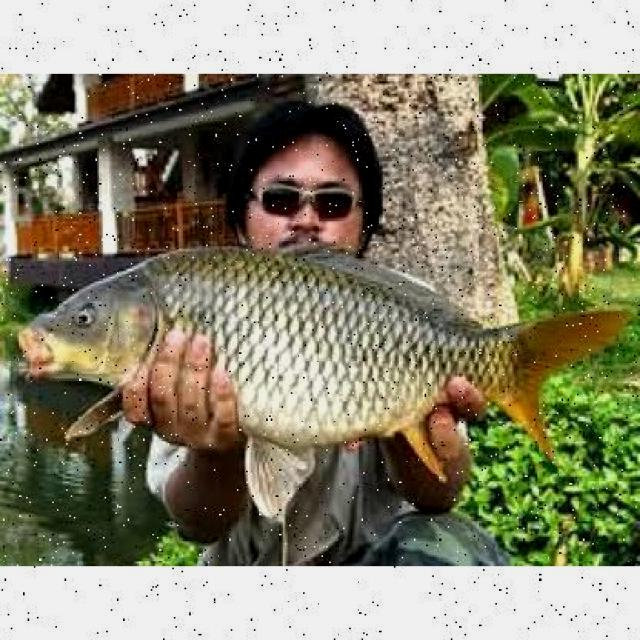ikan-mas: (21, 237, 610, 468)
